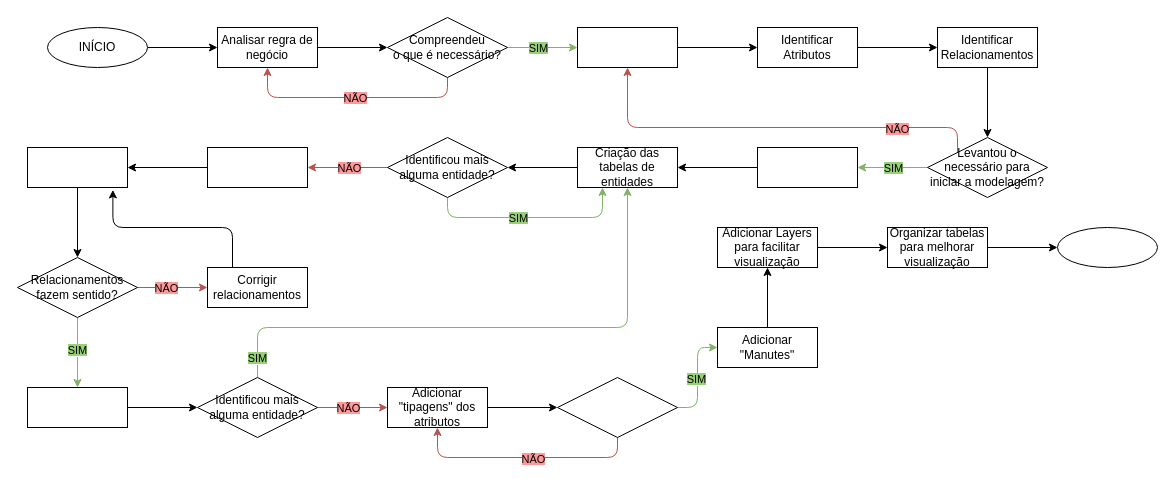
Some shapes in this 1175 by 483 pixel diagram are drawn without their labels. The shapes that lost their labels are listed below. From the top down, each one's centre as x and y in pixels, then its label:
At point (627, 47): "Identificar Entidades".
At point (77, 167): "Analisar relacionamentos".
At point (257, 167): "Relacionar tabelas".
At point (807, 167): "Inicia projeto no Workbench".
At point (1107, 247): "FIM".
At point (77, 407): "Adicionar atributos das entidades".
At point (617, 407): "Os tipos fazem sentido?".
